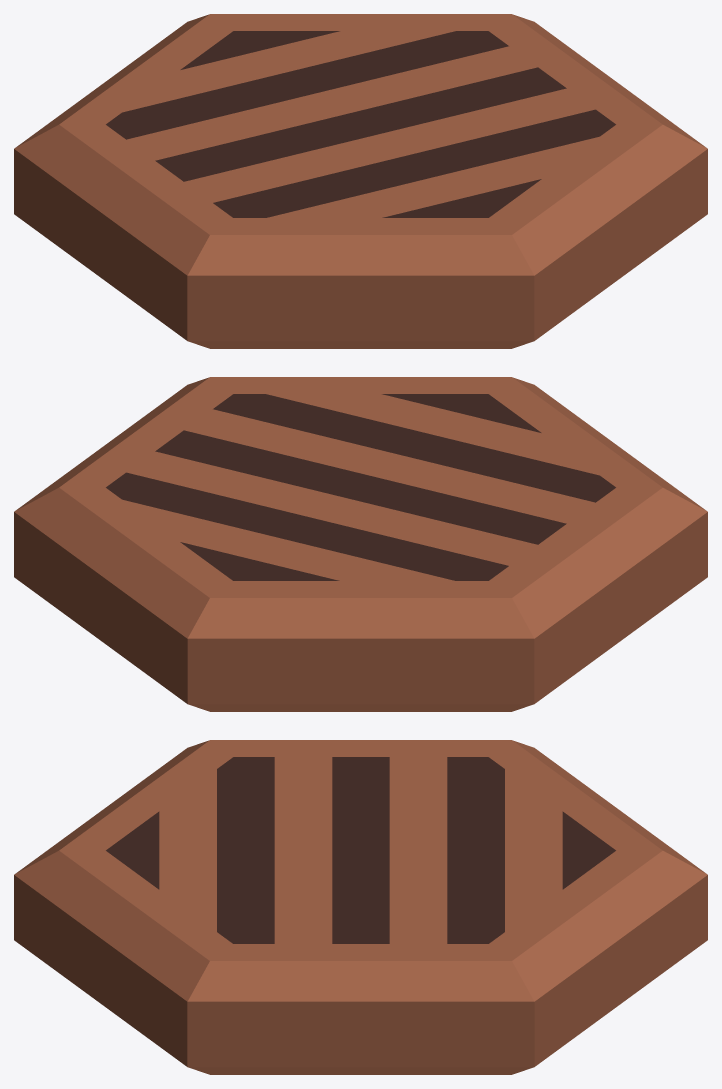
The model's file is meatPatty.obj.
The picture shows the model from 3 angles, top to bottom: view 1: azimuth 30°, elevation 25°; view 2: azimuth 150°, elevation 25°; view 3: azimuth 270°, elevation 25°; orthographic projection.
Visible parts, largest first — view 1: meatPatty; view 2: meatPatty; view 3: meatPatty.
Part boxes in pixels (left/top/right/bottom): meatPatty: left=14, top=14, right=707, bottom=348; meatPatty: left=14, top=377, right=707, bottom=711; meatPatty: left=14, top=740, right=707, bottom=1074.
Size of the model in its own units: 0.2988 by 0.0624 by 0.345.
